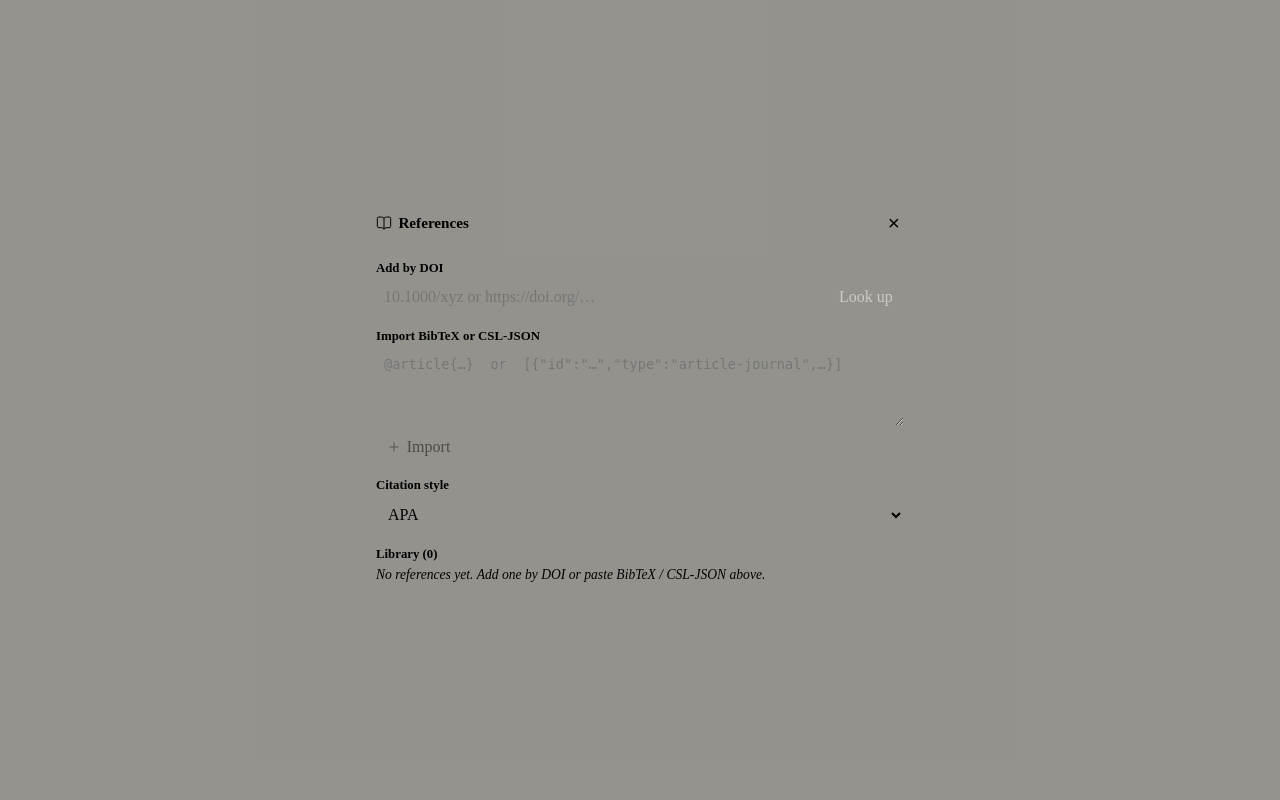
ReferenceManagerDialog › resolves a DOI via the network and imports it
The width and height of the screenshot is (1280, 800).
In the field labelled "Add by DOI": (598, 297) [376, 282, 820, 313], type "10.1000/xyz"
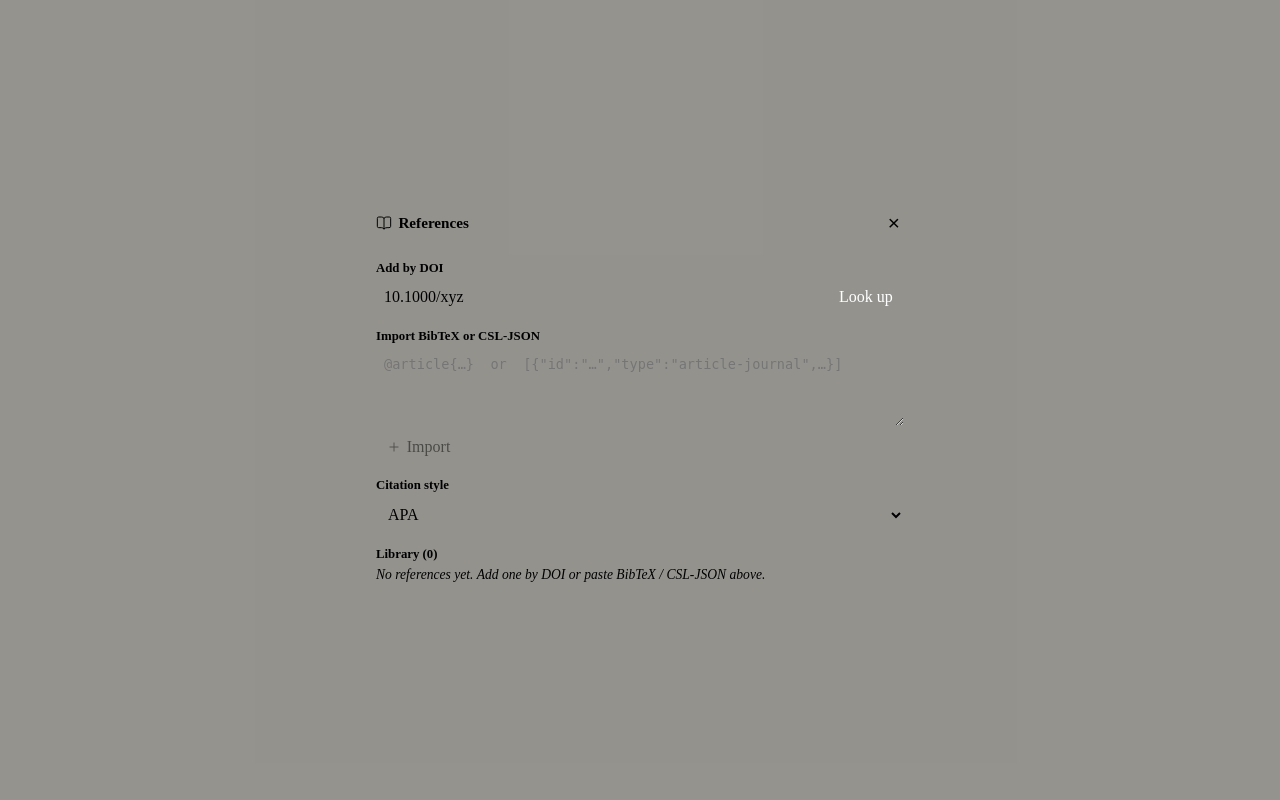
Click the button "Look up": (866, 297) [828, 282, 904, 313]
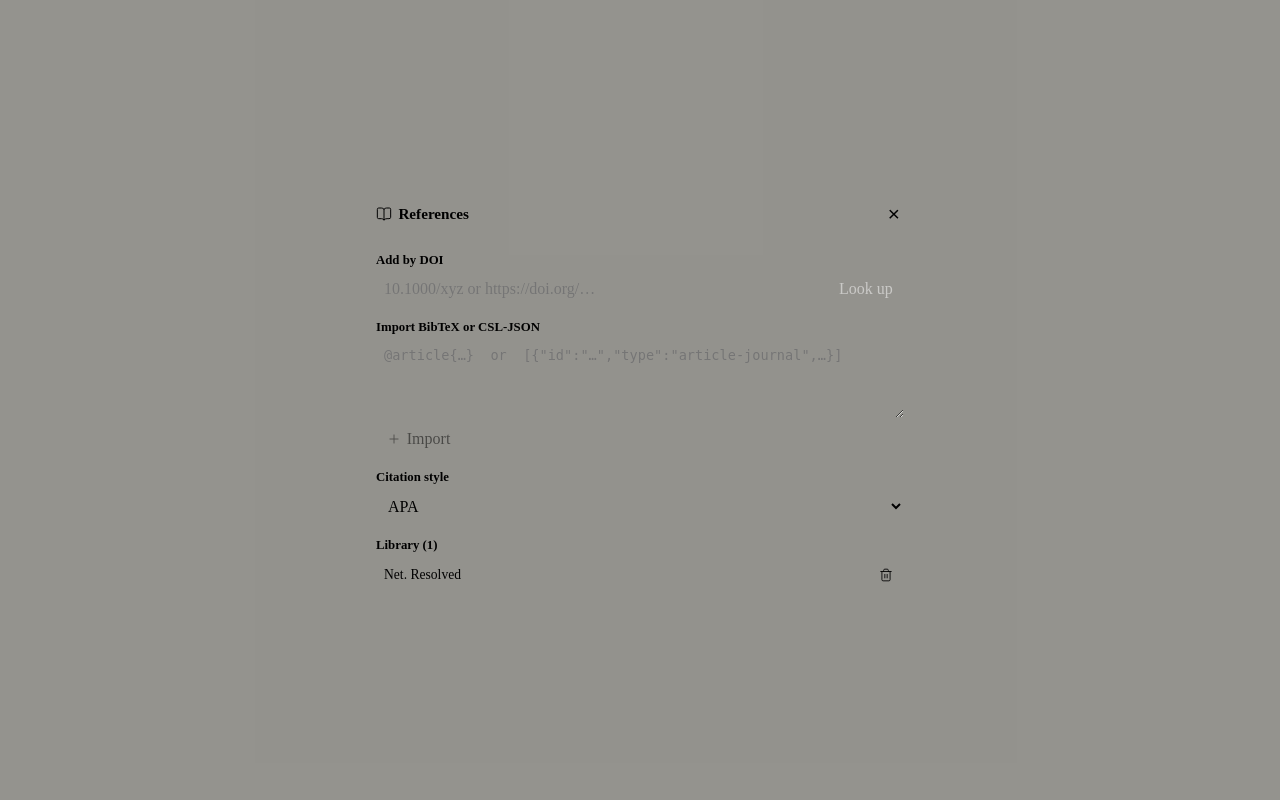
Check: the text "Net. Resolved" is shown, box [384, 567, 461, 582]
